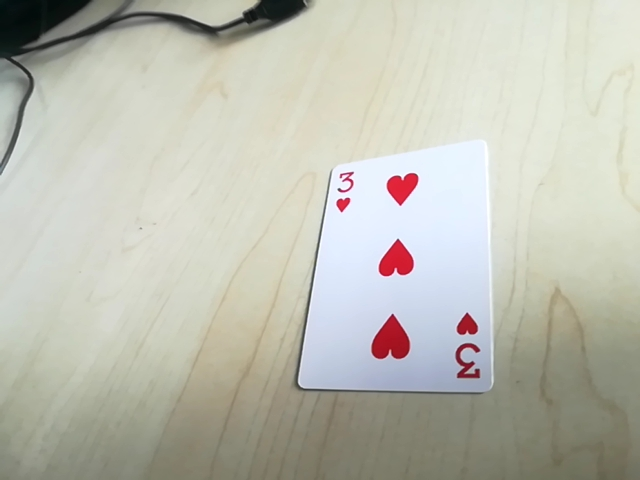hx 3: (451, 336, 491, 384), (325, 164, 360, 213)
